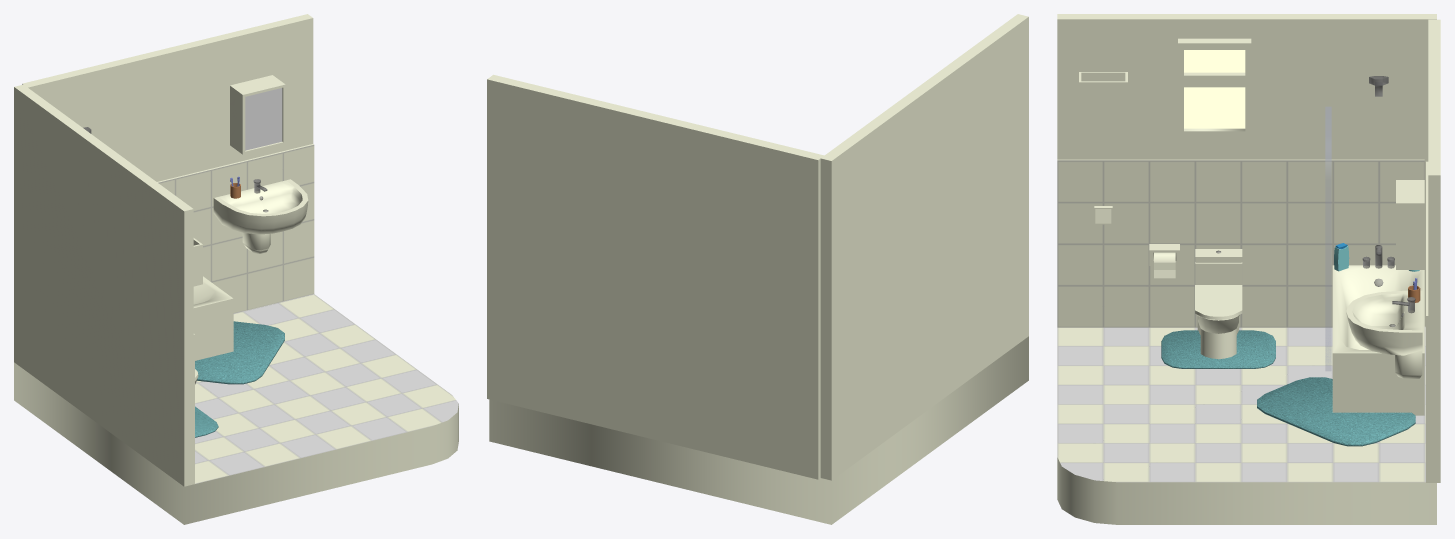
File: testbath.glb
The picture shows the model from 3 angles, left to right: view 1: azimuth 30°, elevation 25°; view 2: azimuth 150°, elevation 25°; view 3: azimuth 270°, elevation 25°; orthographic projection. The views are drawn at different scales.
Visible parts, largest first — view 1: Wall1.006, FloorBase.002, Wall2.002, Wall1.008, WaterExitUpper.001, Carpet.005, Bathtub.001, Mirror.001, MirrorCabinet.005; view 2: Wall2.002, Wall1.006, FloorBase.002; view 3: FloorBase.002, Wall1.007, Wall1.006, Bathtub.001, WindowDay.003, Carpet.005, Wall2.002, WaterExitUpper.001, Carpet.006, WallLamp.001, Toilet.001, MirrorCabinet.005 (+6 smaller).
Boxes of the visible parts, x1=… form: Wall1.006: x1=14, y1=84, x2=193, y2=486; FloorBase.002: x1=14, y1=294, x2=458, y2=524; Wall2.002: x1=22, y1=14, x2=313, y2=181; Wall1.008: x1=157, y1=144, x2=314, y2=313; WaterExitUpper.001: x1=213, y1=179, x2=308, y2=253; Carpet.005: x1=195, y1=321, x2=284, y2=384; Bathtub.001: x1=193, y1=276, x2=233, y2=360; Mirror.001: x1=241, y1=83, x2=285, y2=154; MirrorCabinet.005: x1=230, y1=75, x2=282, y2=152; Wall2.002: x1=487, y1=74, x2=824, y2=479; Wall1.006: x1=820, y1=14, x2=1028, y2=480; FloorBase.002: x1=489, y1=336, x2=1028, y2=524; FloorBase.002: x1=1057, y1=326, x2=1436, y2=524; Wall1.007: x1=1057, y1=159, x2=1424, y2=327; Wall1.006: x1=1057, y1=14, x2=1436, y2=326; Bathtub.001: x1=1332, y1=265, x2=1424, y2=415; WindowDay.003: x1=1178, y1=38, x2=1251, y2=138; Carpet.005: x1=1257, y1=377, x2=1415, y2=446; Wall2.002: x1=1428, y1=19, x2=1440, y2=482; WaterExitUpper.001: x1=1346, y1=290, x2=1422, y2=378; Carpet.006: x1=1161, y1=330, x2=1275, y2=368; WallLamp.001: x1=1079, y1=72, x2=1127, y2=126; Toilet.001: x1=1195, y1=262, x2=1242, y2=359; MirrorCabinet.005: x1=1400, y1=180, x2=1424, y2=269.
Size of the model in its own units: 3.1 by 3.15 by 3.13.
17 materials, 3 textured.
